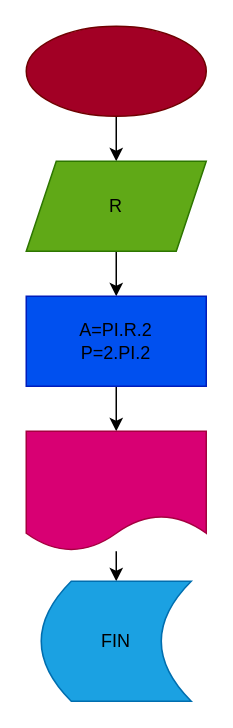
Image size: 233x728. Some labels were removed from this diagram. The shapes that lost their labels are listed below. From the top down, each one's centre as x and y in pixels, then its label:
At (115,70): "inicio".
At (115,490): "A.P".
